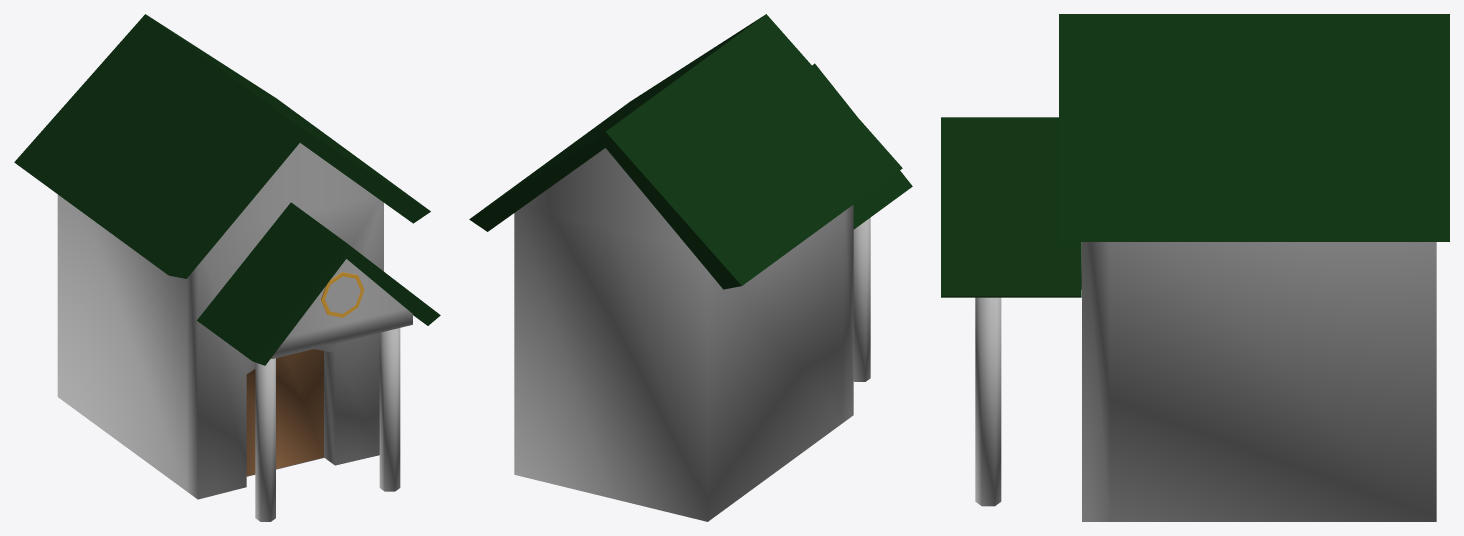
Rendered from CuteHolic_Entrance.fbx.
The picture shows the model from 3 angles, left to right: view 1: azimuth 30°, elevation 25°; view 2: azimuth 150°, elevation 25°; view 3: azimuth 270°, elevation 25°; orthographic projection. The views are drawn at different scales.
Visible parts, largest first — view 1: 실린더; view 2: 실린더; view 3: 실린더.
Boxes of the visible parts, left/top/right/bottom form: 실린더: left=14, top=14, right=440, bottom=521; 실린더: left=469, top=14, right=912, bottom=521; 실린더: left=941, top=14, right=1449, bottom=521.
Size of the model in its own units: 1955 by 2537 by 2598.
